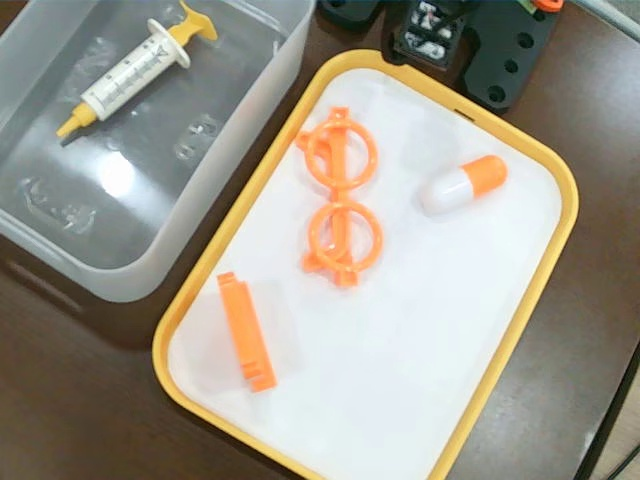pill: (417, 154, 510, 215)
syringe: (55, 0, 218, 139)
